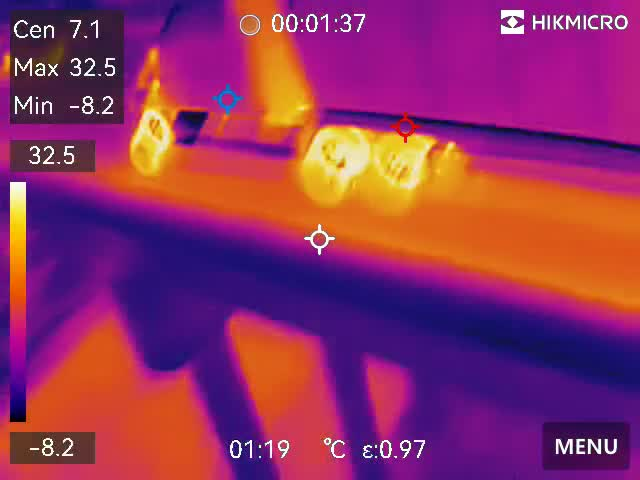heavyTruck: (134, 1, 640, 211)
